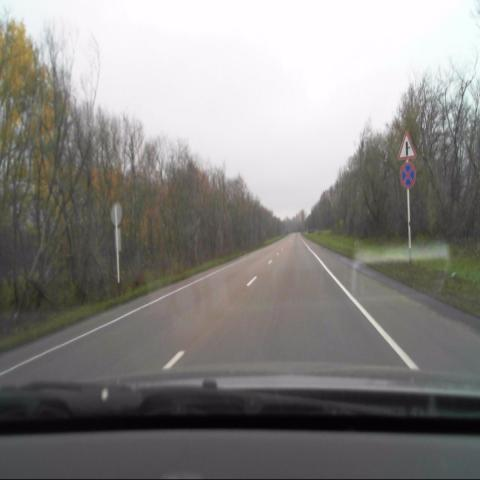2_3_2: (398, 131, 416, 160)
